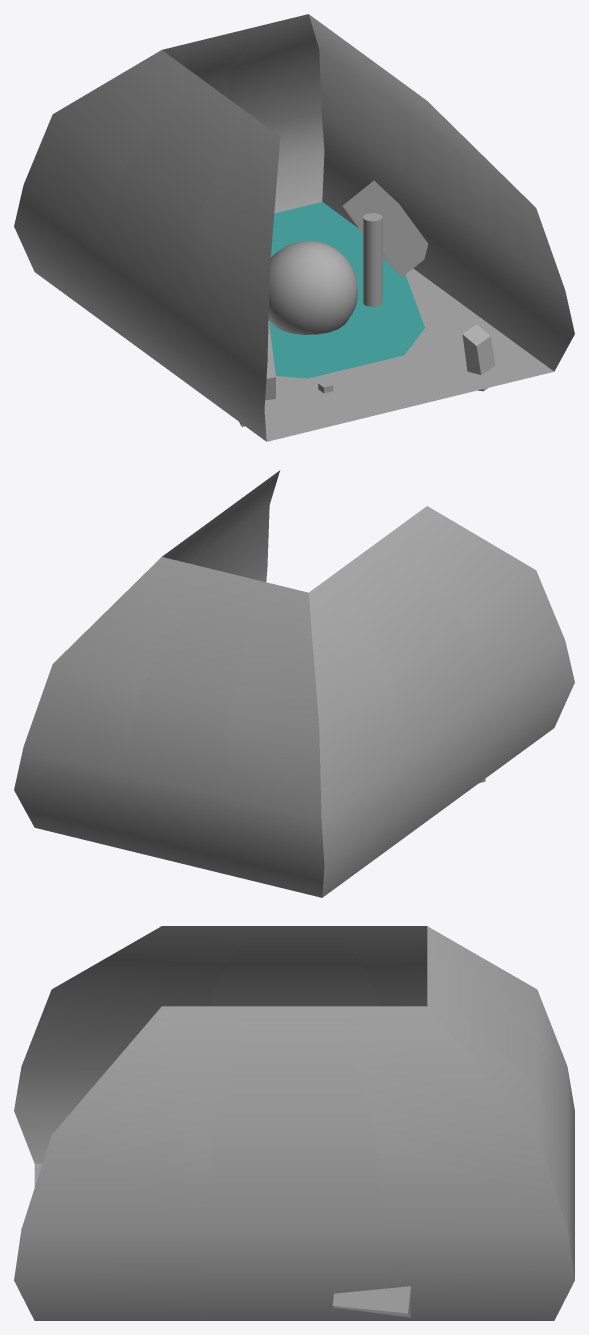
The model's file is pulpo_escenario.fbx.
The picture shows the model from 3 angles, top to bottom: view 1: azimuth 30°, elevation 25°; view 2: azimuth 150°, elevation 25°; view 3: azimuth 270°, elevation 25°; orthographic projection. The views are drawn at different scales.
Parts seen in each view (by area): view 1: pPlane1, pSphere1, pCube4, pCylinder1, pCube5, pCube2; view 2: pPlane1; view 3: pPlane1, pCube4.
Part boxes in pixels (x1=…): pPlane1: x1=14, y1=14, x2=574, y2=441; pSphere1: x1=268, y1=240, x2=357, y2=334; pCube4: x1=342, y1=180, x2=428, y2=276; pCylinder1: x1=363, y1=213, x2=382, y2=306; pCube5: x1=462, y1=324, x2=495, y2=391; pCube2: x1=239, y1=321, x2=275, y2=426; pPlane1: x1=14, y1=470, x2=574, y2=897; pPlane1: x1=14, y1=926, x2=574, y2=1320; pCube4: x1=332, y1=1286, x2=410, y2=1317.
Bounding box in the file's own units: 68.94 × 55.83 × 93.45.
